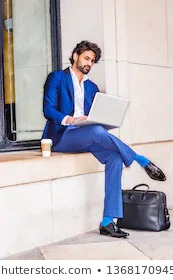F_M_suit jacket: (45, 72, 106, 133)
F_dress pants: (53, 125, 147, 219)
